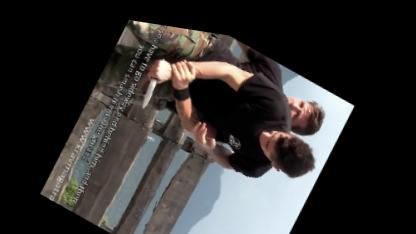knife: (130, 43, 180, 115)
